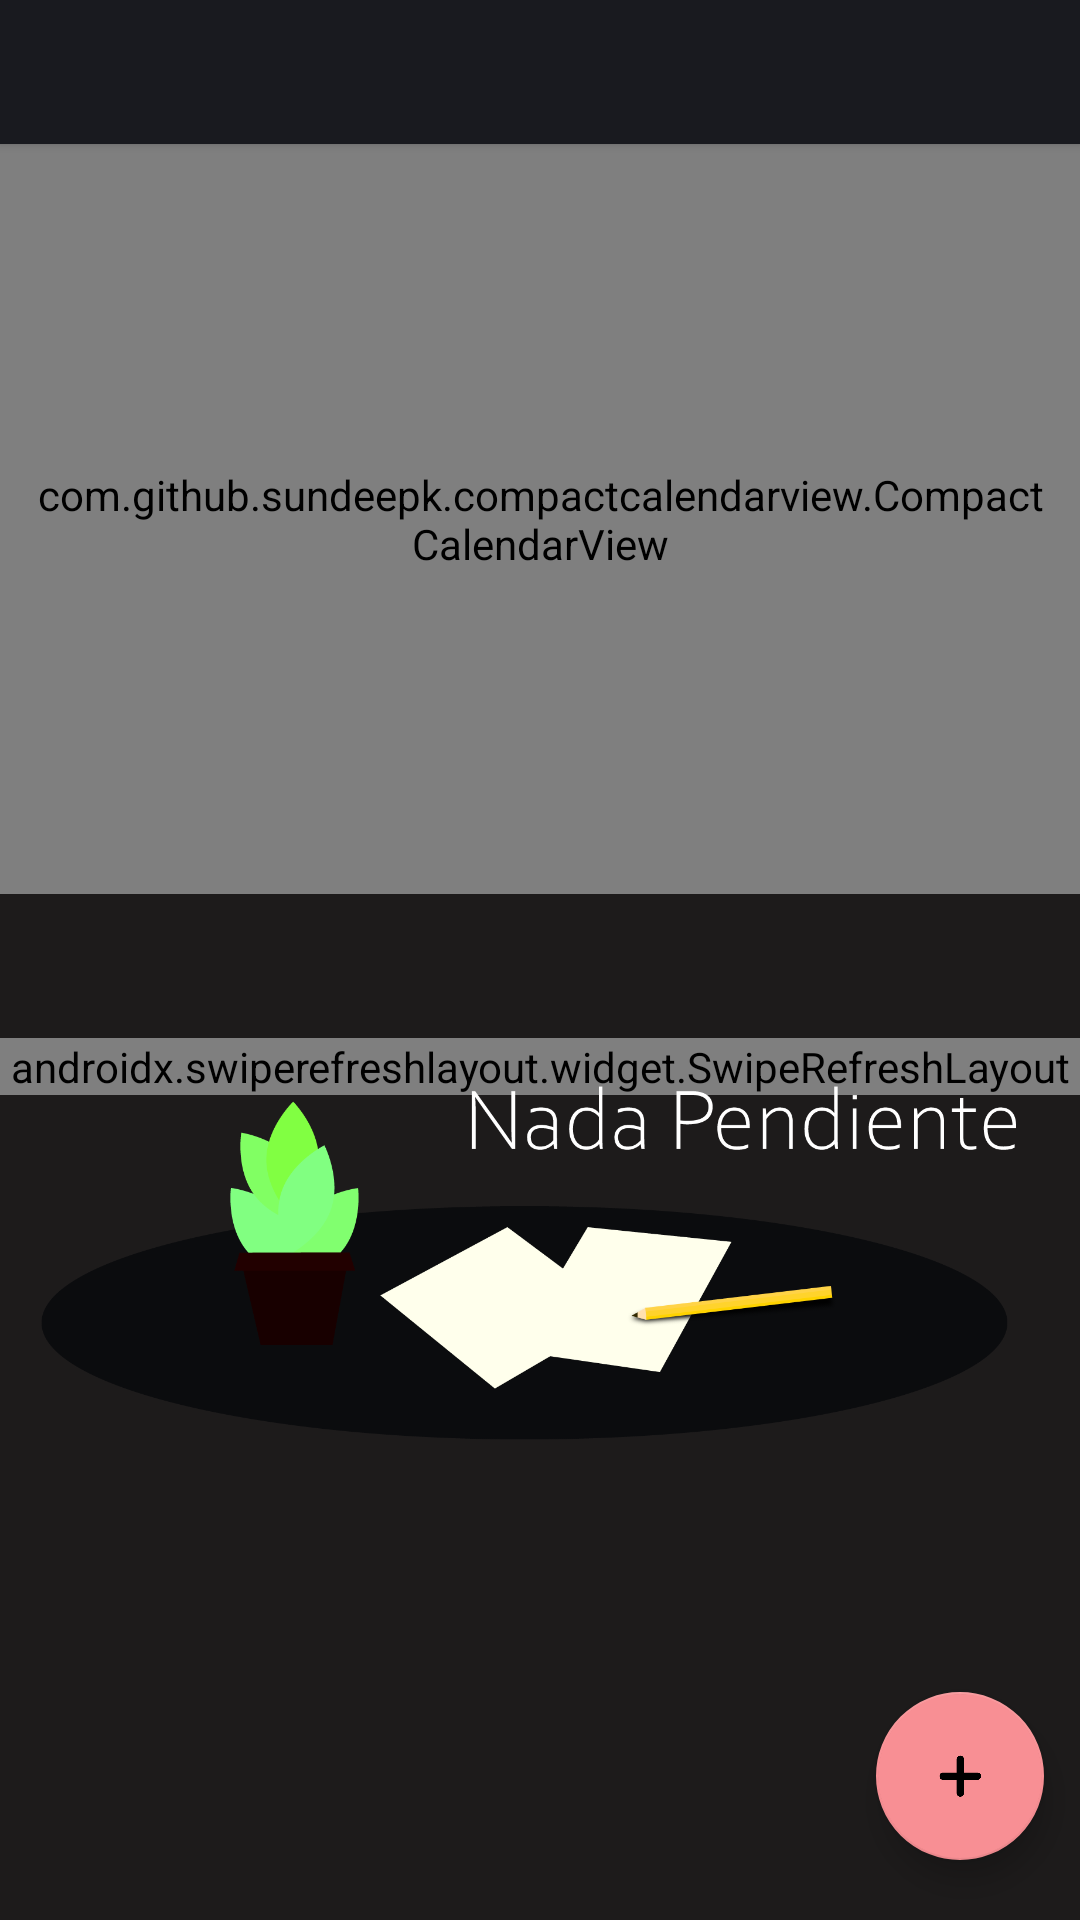

Screen size 1080 × 1920. Icon name, then its box in pixels as (x1, y1, x2, y2):
cruz: (876, 1692, 1044, 1860)
